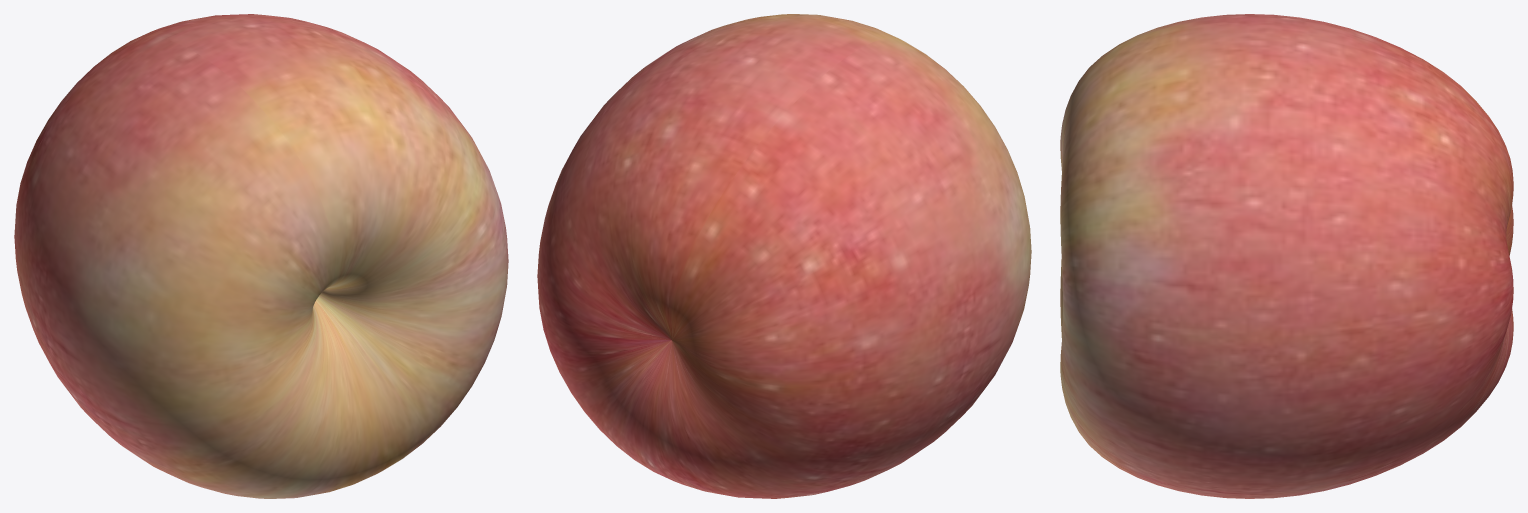
Rendered from ApplePeel.obj.
The picture shows the model from 3 angles, left to right: view 1: azimuth 30°, elevation 25°; view 2: azimuth 150°, elevation 25°; view 3: azimuth 270°, elevation 25°; orthographic projection. The views are drawn at different scales.
Visible parts, largest first — view 1: ApplePeel; view 2: ApplePeel; view 3: ApplePeel.
Part boxes in pixels (bbox=[...]): ApplePeel: bbox=[14, 14, 508, 498]; ApplePeel: bbox=[537, 14, 1031, 498]; ApplePeel: bbox=[1060, 14, 1513, 498].
Bounding box in the file's own units: 0.0692 × 0.0692 × 0.0647.
1 material, 1 textured.
